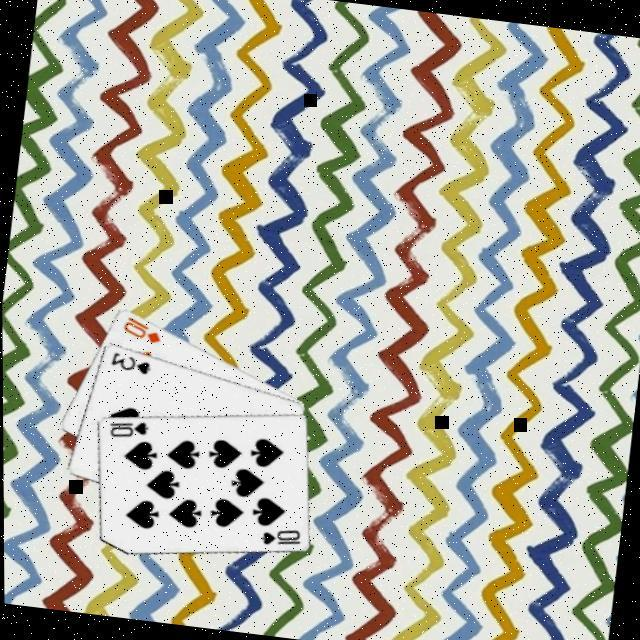10D: (120, 314, 167, 347)
10S: (105, 414, 152, 444), (257, 524, 305, 552)
3S: (108, 349, 156, 378)
